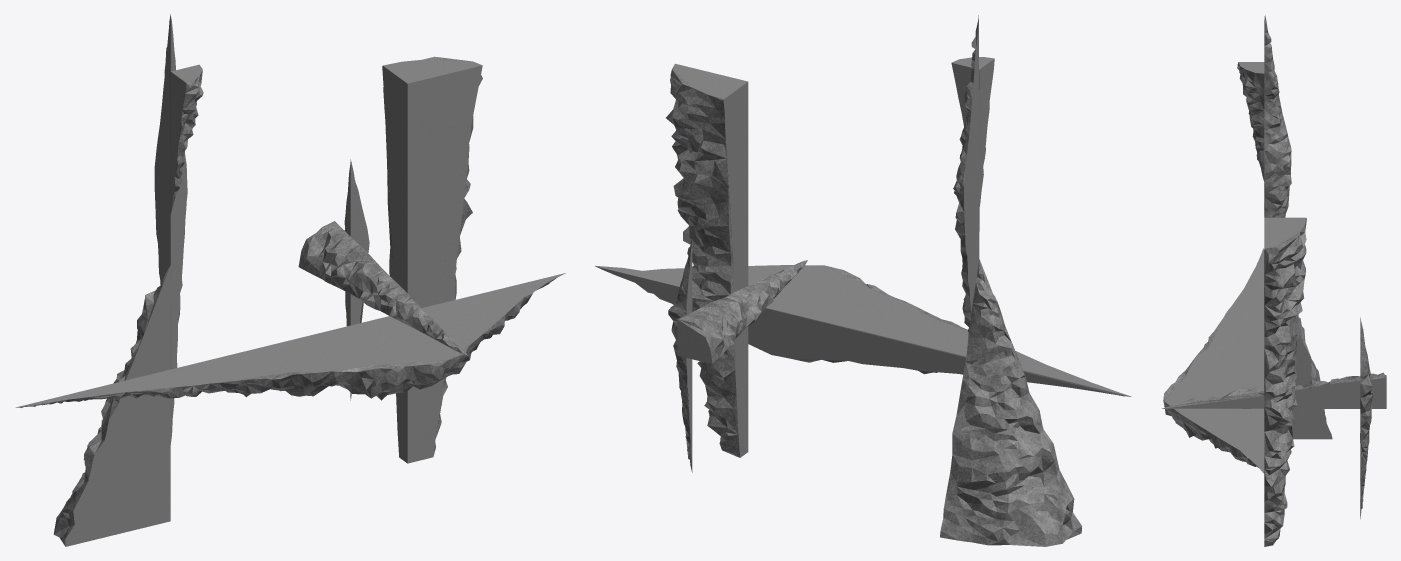
Rendered from bakedMed.gltf.
3 views of the same model, side by side, from view 1: azimuth 30°, elevation 25°; view 2: azimuth 150°, elevation 25°; view 3: azimuth 270°, elevation 25° (orthographic). The views are drawn at different scales.
Visible parts, largest first — view 1: Texturizado; view 2: Texturizado; view 3: Texturizado.
Boxes of the visible parts, bbox=[...] form: Texturizado: bbox=[15, 14, 565, 546]; Texturizado: bbox=[595, 15, 1131, 546]; Texturizado: bbox=[1162, 15, 1386, 546].
Bounding box in the file's own units: 15.19 × 13.35 × 6.4.
2 materials, 2 textured.
